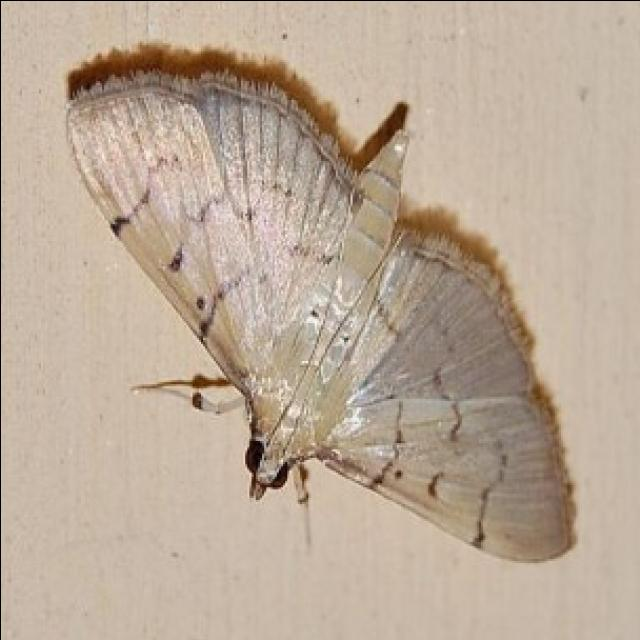rice leaf roller: (69, 72, 573, 562)
